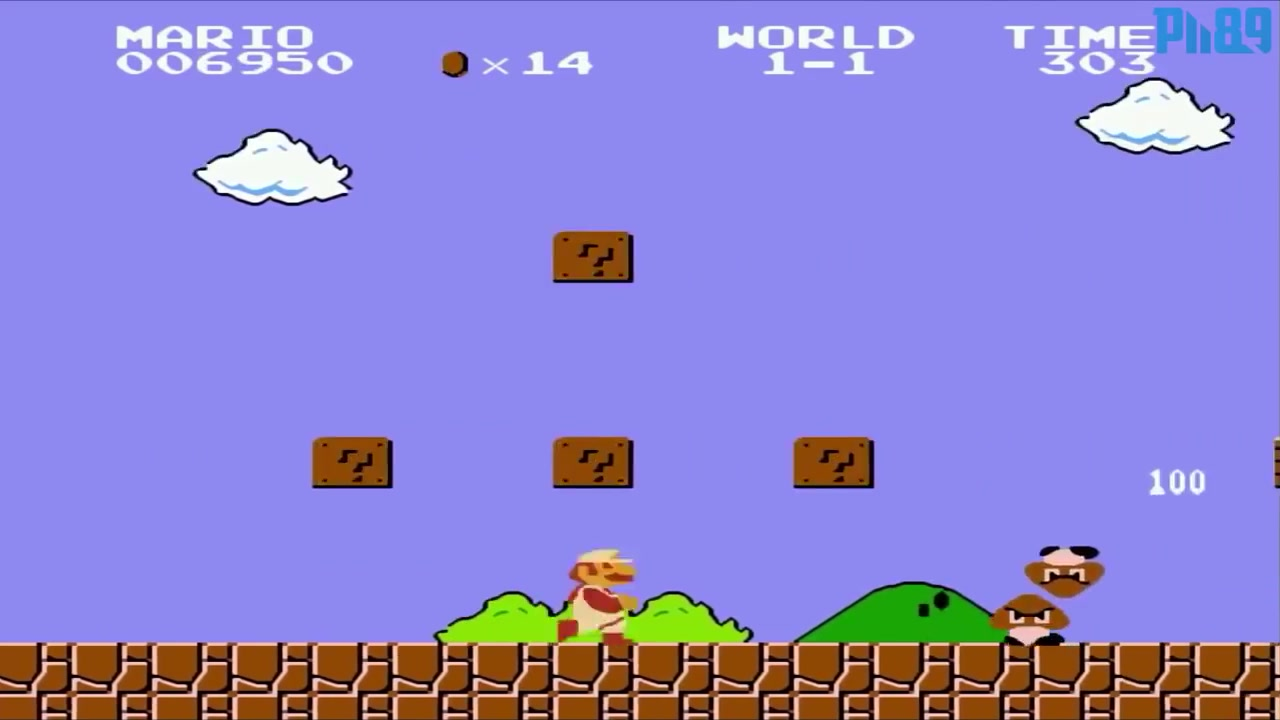mario: (537, 533, 647, 645)
